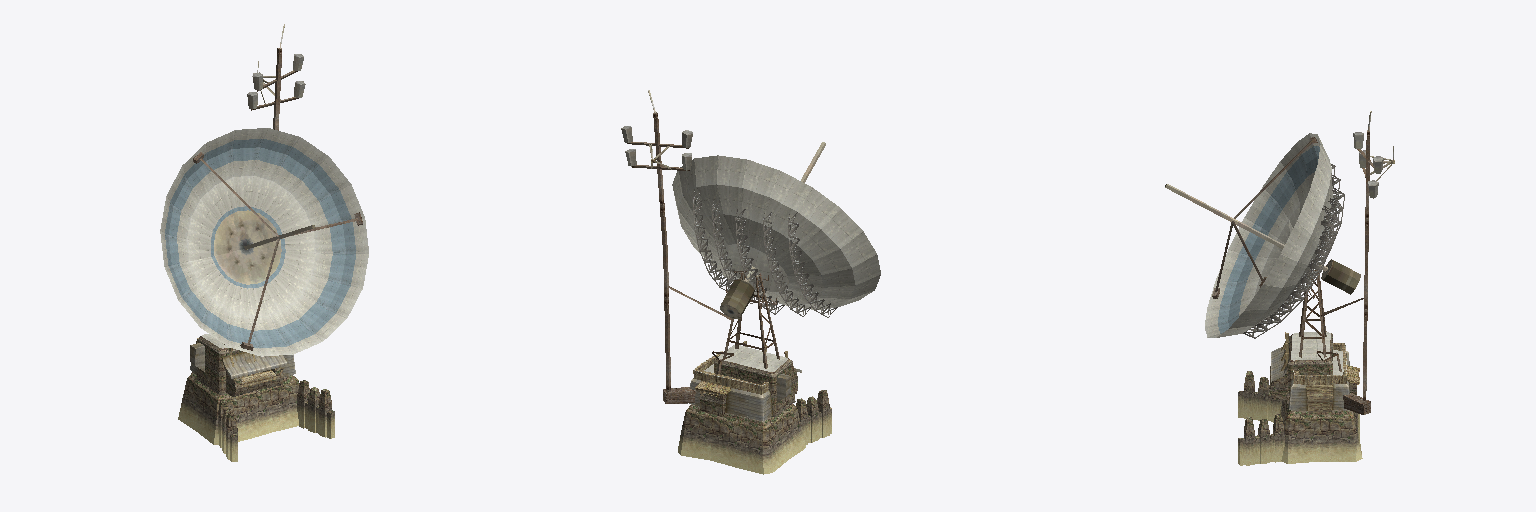
3 views of the same model, side by side, from view 1: azimuth 30°, elevation 25°; view 2: azimuth 150°, elevation 25°; view 3: azimuth 270°, elevation 25° (orthographic).
Visible parts, largest first — view 1: Node 0; view 2: Node 0; view 3: Node 0.
Boxes of the visible parts, <box> form: Node 0: <box>160,24,368,461</box>; Node 0: <box>621,90,880,474</box>; Node 0: <box>1165,111,1394,465</box>.
Size of the model in its own units: 35.02 by 60.3 by 34.73.
Materials: 7 (7 with a texture image).